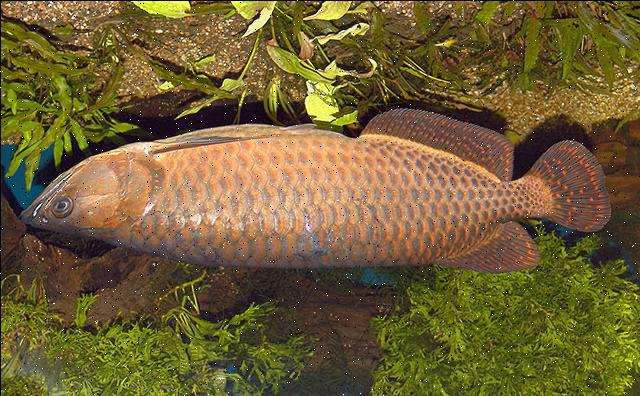Mulut: (0, 152, 120, 234)
Sirip Anal: (352, 95, 524, 188)
Sirip Dada: (132, 123, 268, 163)
Sirip Ekor: (508, 125, 624, 243)
Sirip Perut: (268, 106, 332, 142)
Sirip Punggung: (422, 212, 550, 284)
